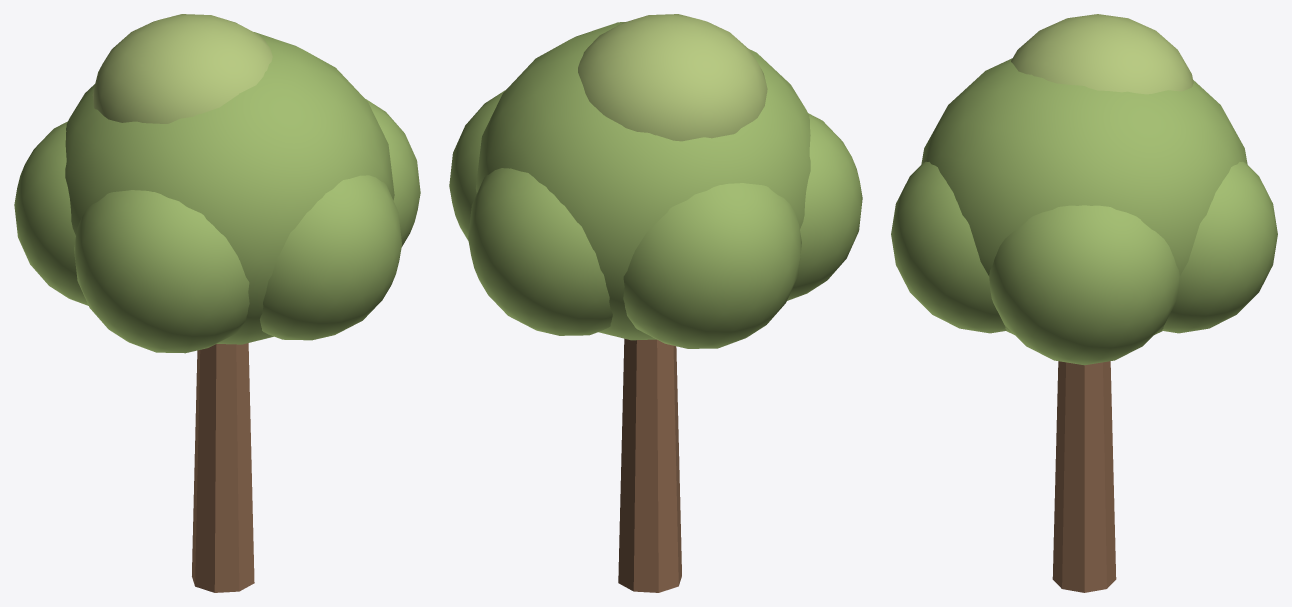
The picture shows the model from 3 angles, left to right: view 1: azimuth 30°, elevation 25°; view 2: azimuth 150°, elevation 25°; view 3: azimuth 270°, elevation 25°; orthographic projection. The views are drawn at different scales.
Visible parts, largest first — view 1: Deco plant; view 2: Deco plant; view 3: Deco plant.
Boxes of the visible parts, left/top/right/bottom form: Deco plant: left=14, top=14, right=420, bottom=592; Deco plant: left=449, top=14, right=862, bottom=592; Deco plant: left=891, top=14, right=1277, bottom=592.
Size of the model in its own units: 1.95 by 2.95 by 1.9.
